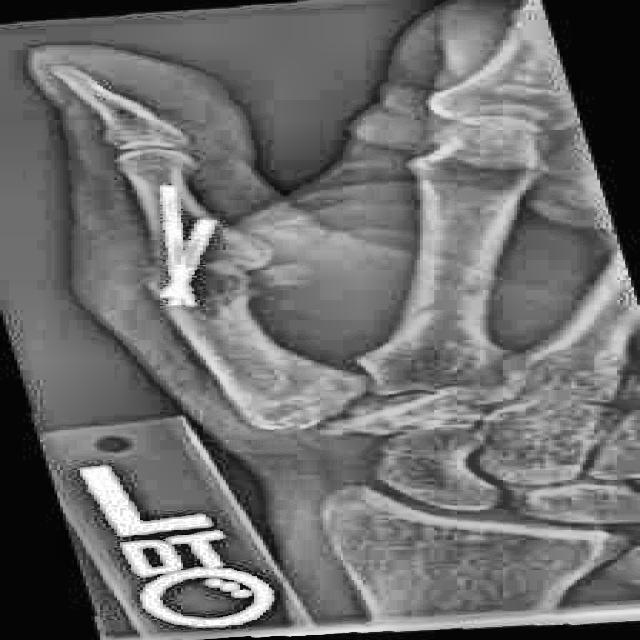fingers positive: (126, 215, 324, 305)
